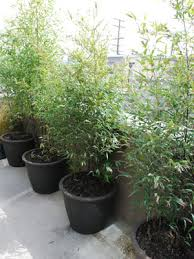bamboo: (134, 11, 194, 238), (60, 16, 124, 185), (1, 3, 49, 128)
